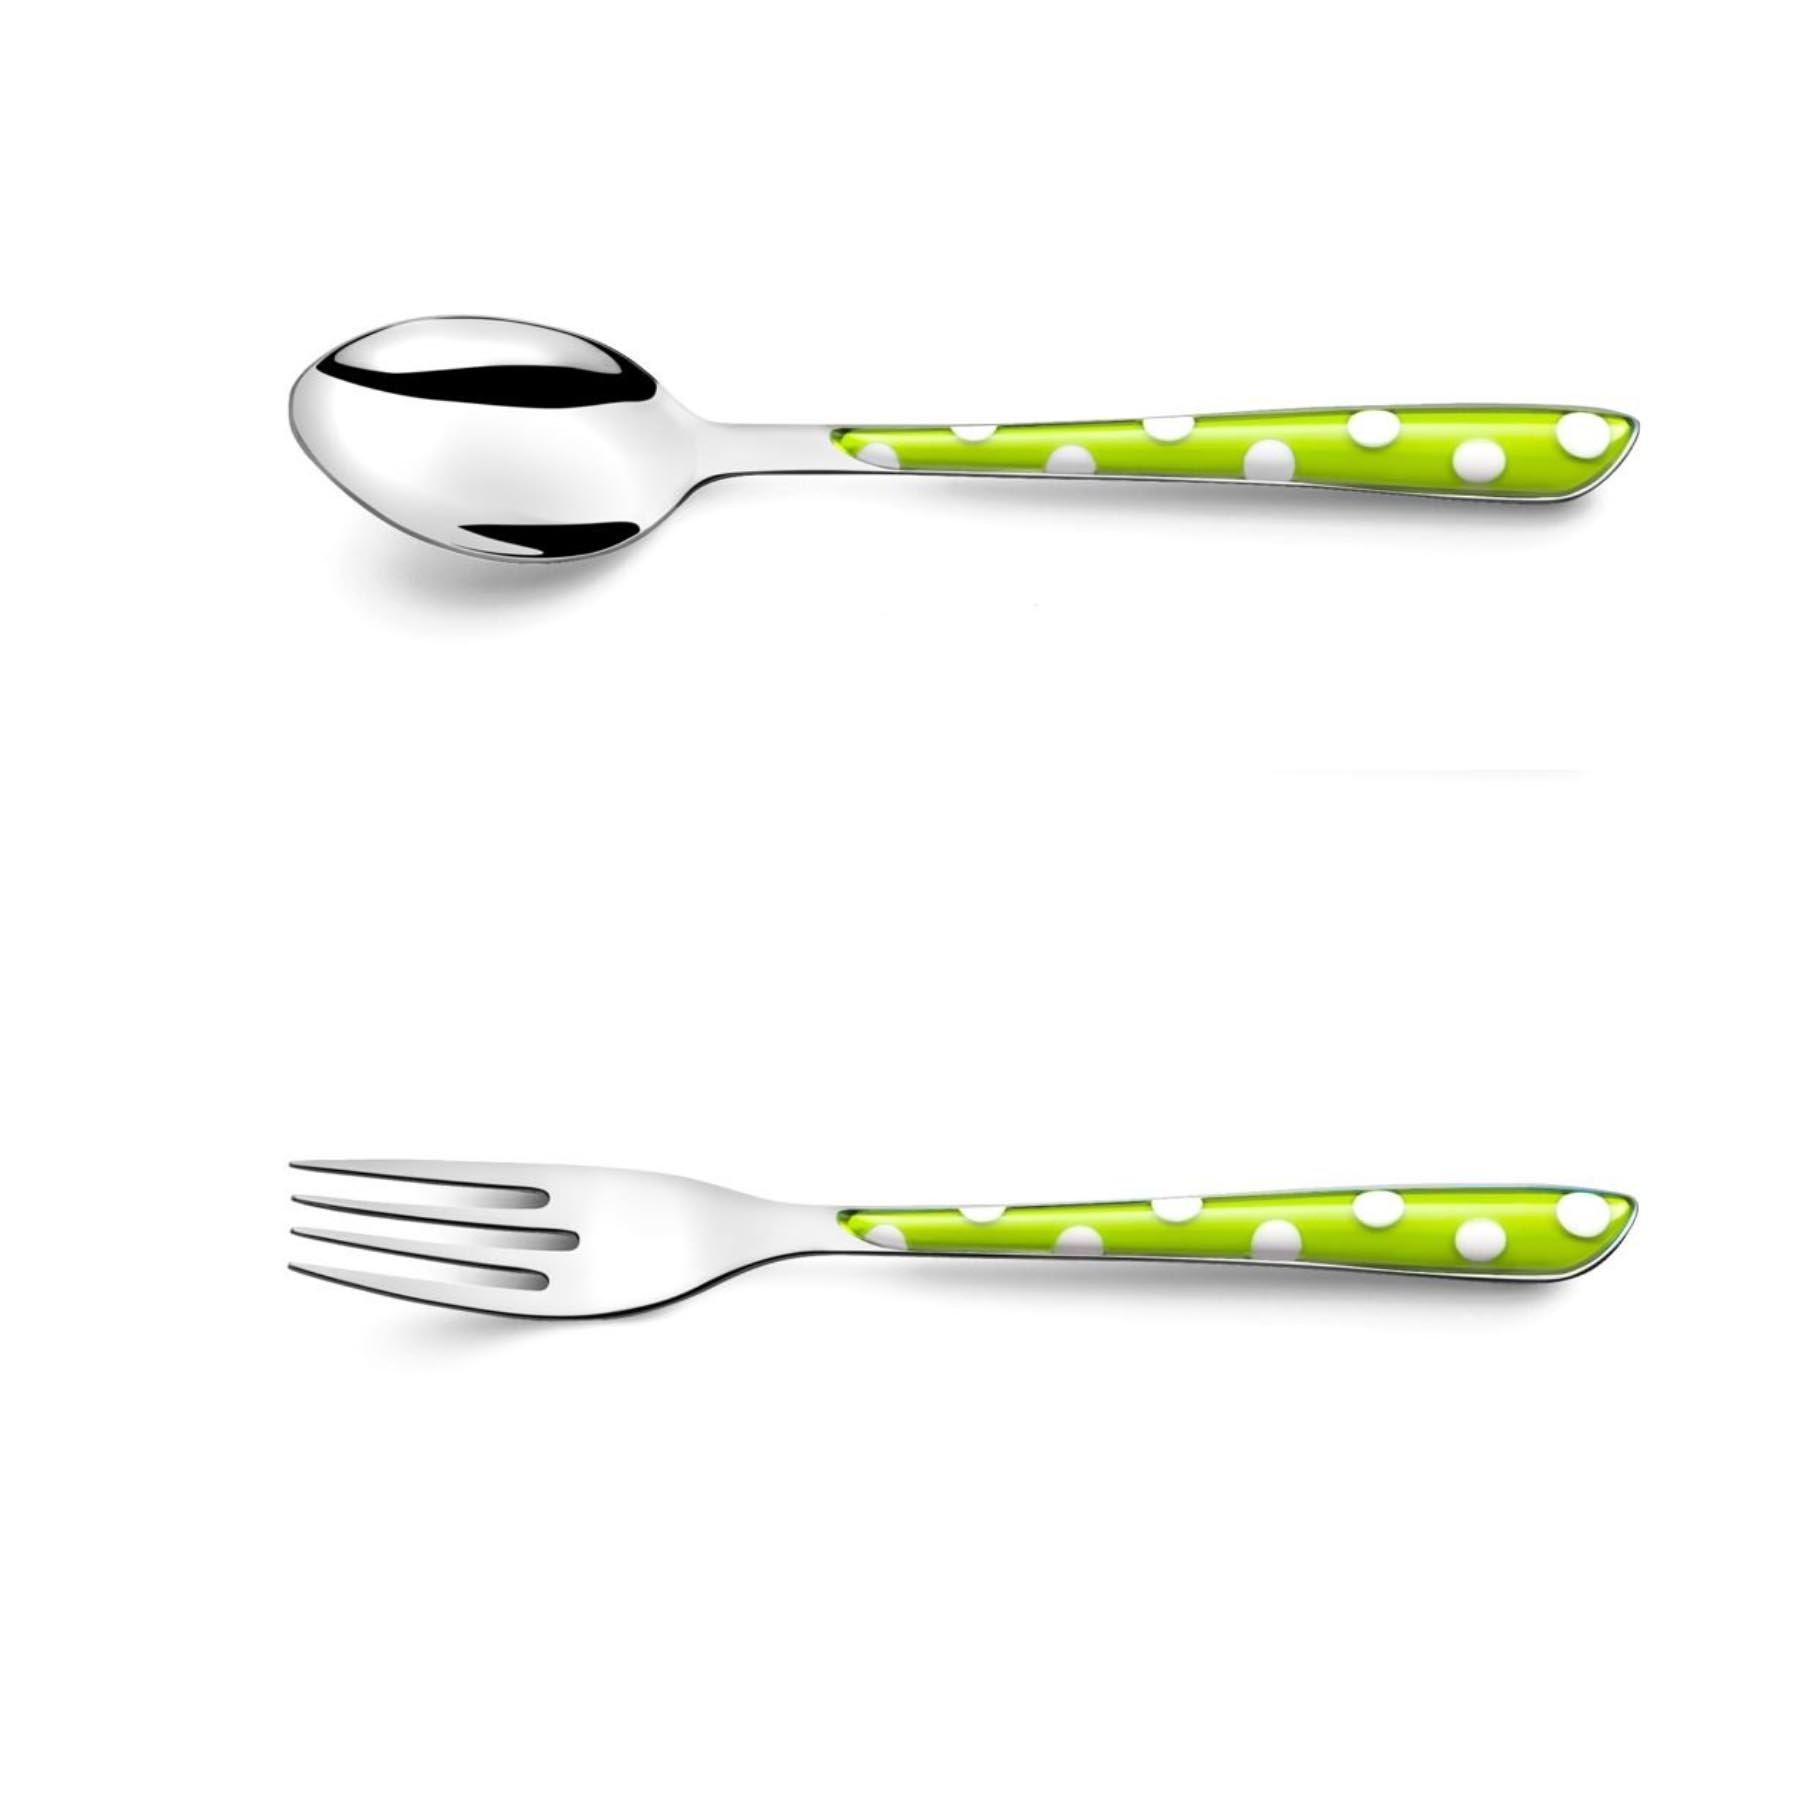Lyzka: (277, 305, 739, 584)
Widelec: (270, 1146, 764, 1338)
